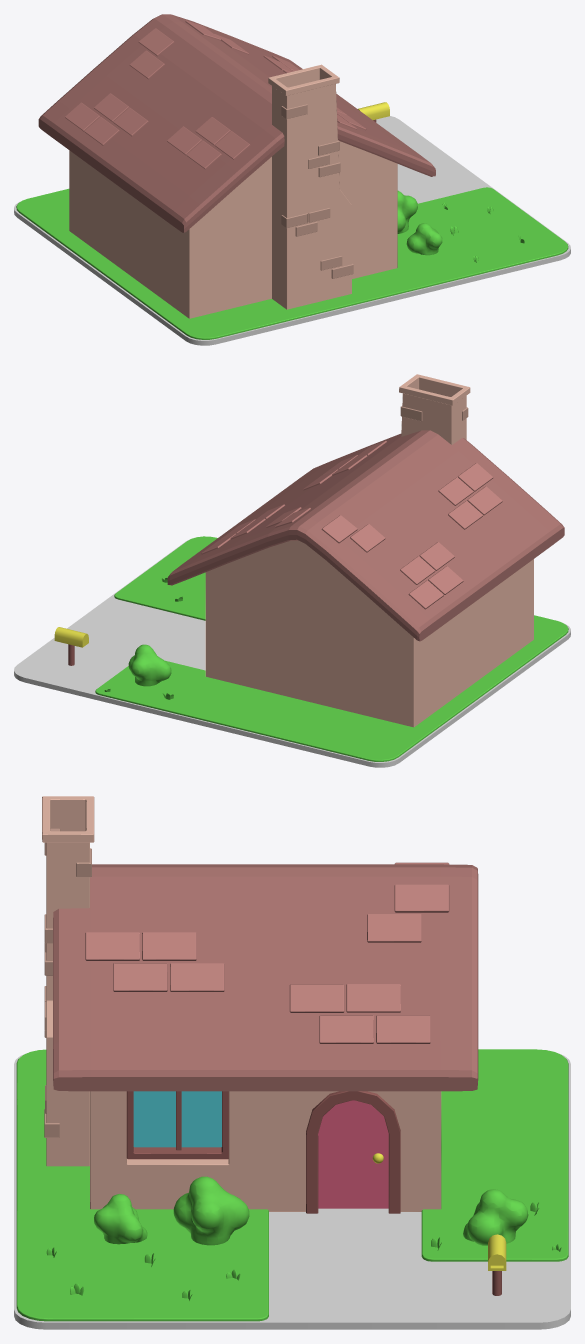
File: house1.glb
3 renders of one model, top to bottom at view 1: azimuth 30°, elevation 25°; view 2: azimuth 150°, elevation 25°; view 3: azimuth 270°, elevation 25°, orthographic. The views are drawn at different scales.
Visible parts, largest first — view 1: 002.Roof_17, 001.House_16, 010.Grass_25, 008.Chimney_23, 009.Ground_24, Mball.030_5, Plane.005_58, Plane.008_61, Plane.004_57, Plane.002_55, Plane.007_60, Plane_53 (+4 smaller); view 2: 001.House_16, 002.Roof_17, 010.Grass_25, 009.Ground_24, 008.Chimney_23, Mball.030_5, Plane.005_58, Plane.001_54, Plane.004_57, Plane.009_62, Plane.007_60, Plane.008_61 (+5 smaller); view 3: 002.Roof_17, 010.Grass_25, 009.Ground_24, 001.House_16, 008.Chimney_23, Mball.030_5, 004.Door_19, 003.DoorFrame_18, 006.WindowPanel_21, Plane.005_58, Plane.003_56, Plane.002_55 (+8 smaller).
Part boxes in pixels (x1=…): 002.Roof_17: x1=38, y1=14, x2=435, y2=232; 001.House_16: x1=69, y1=141, x2=397, y2=318; 010.Grass_25: x1=16, y1=187, x2=568, y2=339; 008.Chimney_23: x1=268, y1=64, x2=351, y2=309; 009.Ground_24: x1=14, y1=116, x2=570, y2=345; Mball.030_5: x1=397, y1=190, x2=442, y2=255; Plane.005_58: x1=138, y1=20, x2=220, y2=56; Plane.008_61: x1=129, y1=34, x2=248, y2=79; Plane.004_57: x1=94, y1=55, x2=293, y2=121; Plane.002_55: x1=186, y1=111, x2=365, y2=169; Plane.007_60: x1=65, y1=55, x2=299, y2=131; Plane_53: x1=215, y1=114, x2=356, y2=159; 001.House_16: x1=205, y1=540, x2=533, y2=727; 002.Roof_17: x1=167, y1=430, x2=564, y2=641; 010.Grass_25: x1=95, y1=536, x2=568, y2=761; 009.Ground_24: x1=14, y1=539, x2=570, y2=767; 008.Chimney_23: x1=399, y1=374, x2=470, y2=444; Mball.030_5: x1=128, y1=644, x2=171, y2=686; Plane.005_58: x1=275, y1=507, x2=357, y2=543; Plane.001_54: x1=332, y1=455, x2=473, y2=505; Plane.004_57: x1=230, y1=518, x2=435, y2=584; Plane.009_62: x1=303, y1=469, x2=483, y2=529; Plane.007_60: x1=201, y1=533, x2=443, y2=609; Plane.008_61: x1=266, y1=507, x2=385, y2=552; 002.Roof_17: x1=53, y1=864, x2=478, y2=1091; 010.Grass_25: x1=16, y1=1049, x2=568, y2=1321; 009.Ground_24: x1=14, y1=1054, x2=570, y2=1329; 001.House_16: x1=90, y1=1091, x2=441, y2=1211; 008.Chimney_23: x1=42, y1=796, x2=94, y2=1166; Mball.030_5: x1=94, y1=1176, x2=528, y2=1245; 004.Door_19: x1=318, y1=1100, x2=388, y2=1208; 003.DoorFrame_18: x1=306, y1=1091, x2=400, y2=1213; 006.WindowPanel_21: x1=126, y1=1091, x2=228, y2=1159; Plane.005_58: x1=394, y1=862, x2=449, y2=912; Plane.003_56: x1=289, y1=984, x2=344, y2=1012; Plane.002_55: x1=113, y1=963, x2=167, y2=991.
Bounding box in the file's own units: 12.31 × 7.17 × 10.65.
